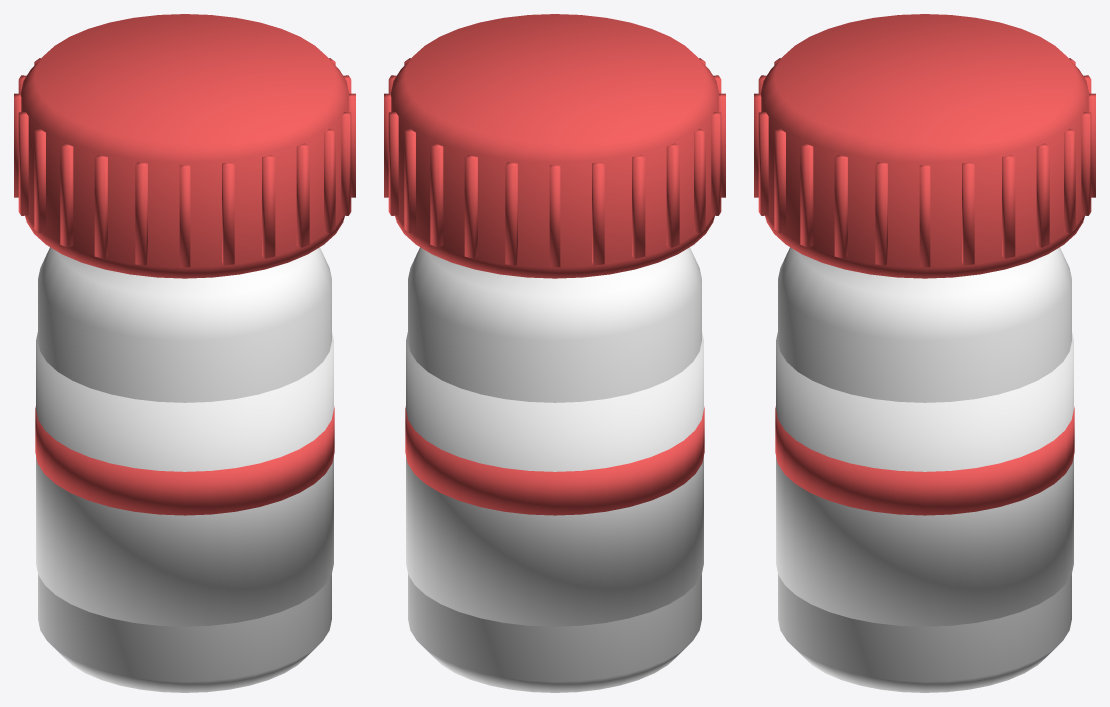
Rendered from SM_Painkillers.glb.
3 renders of one model, left to right at view 1: azimuth 30°, elevation 25°; view 2: azimuth 150°, elevation 25°; view 3: azimuth 270°, elevation 25°, orthographic.
Visible parts, largest first — view 1: SM_Painkillers; view 2: SM_Painkillers; view 3: SM_Painkillers.
Part boxes in pixels (x1,y1,x2,y2): SM_Painkillers: (14,14,355,692); SM_Painkillers: (384,14,725,692); SM_Painkillers: (754,14,1095,692).
Size of the model in its own units: 0.05 by 0.0905 by 0.05.
